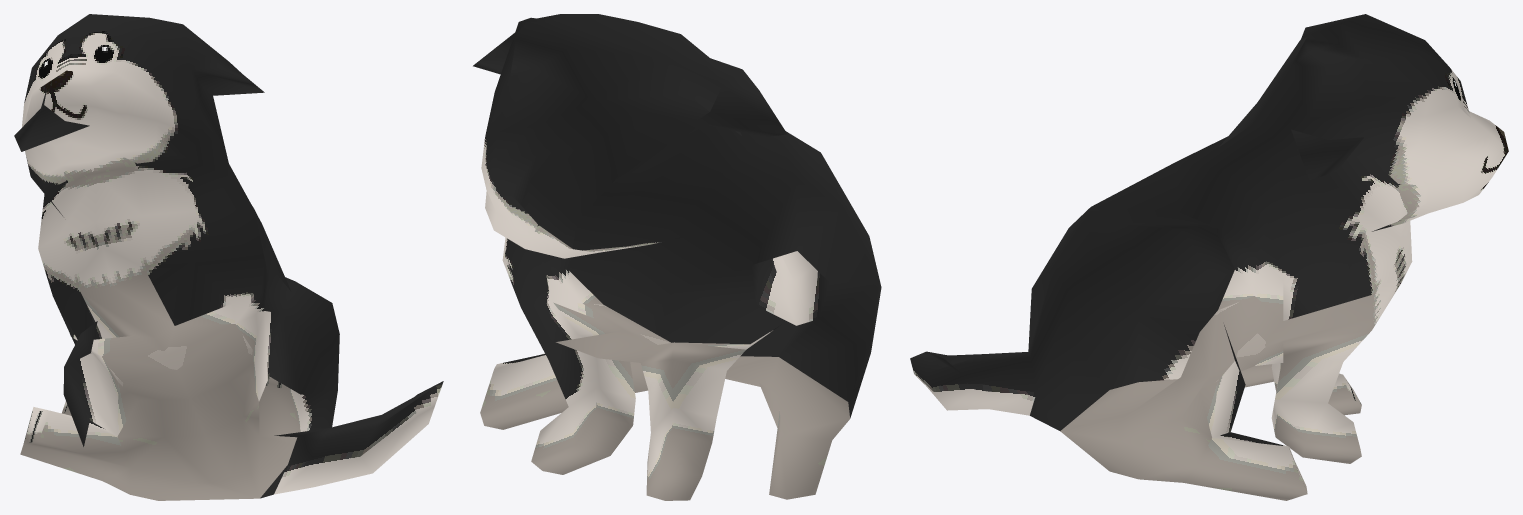
File: ps2_save-icons_fullmetalalchemist2curseofthecrimsonelixir.glb
3 views of the same model, side by side, from view 1: azimuth 30°, elevation 25°; view 2: azimuth 150°, elevation 25°; view 3: azimuth 270°, elevation 25° (orthographic). The views are drawn at different scales.
Parts seen in each view (by area): view 1: icon00.ico; view 2: icon00.ico; view 3: icon00.ico.
Part boxes in pixels (x1=…): icon00.ico: x1=14, y1=14, x2=443, y2=500; icon00.ico: x1=473, y1=14, x2=881, y2=500; icon00.ico: x1=910, y1=14, x2=1508, y2=500.
Size of the model in its own units: 2.33 by 3.12 by 4.2.
1 material, 1 textured.
